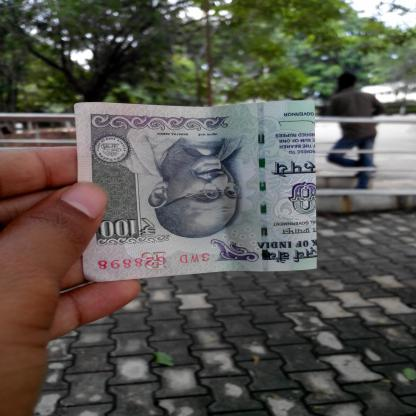Old100Front: (73, 100, 317, 282)
